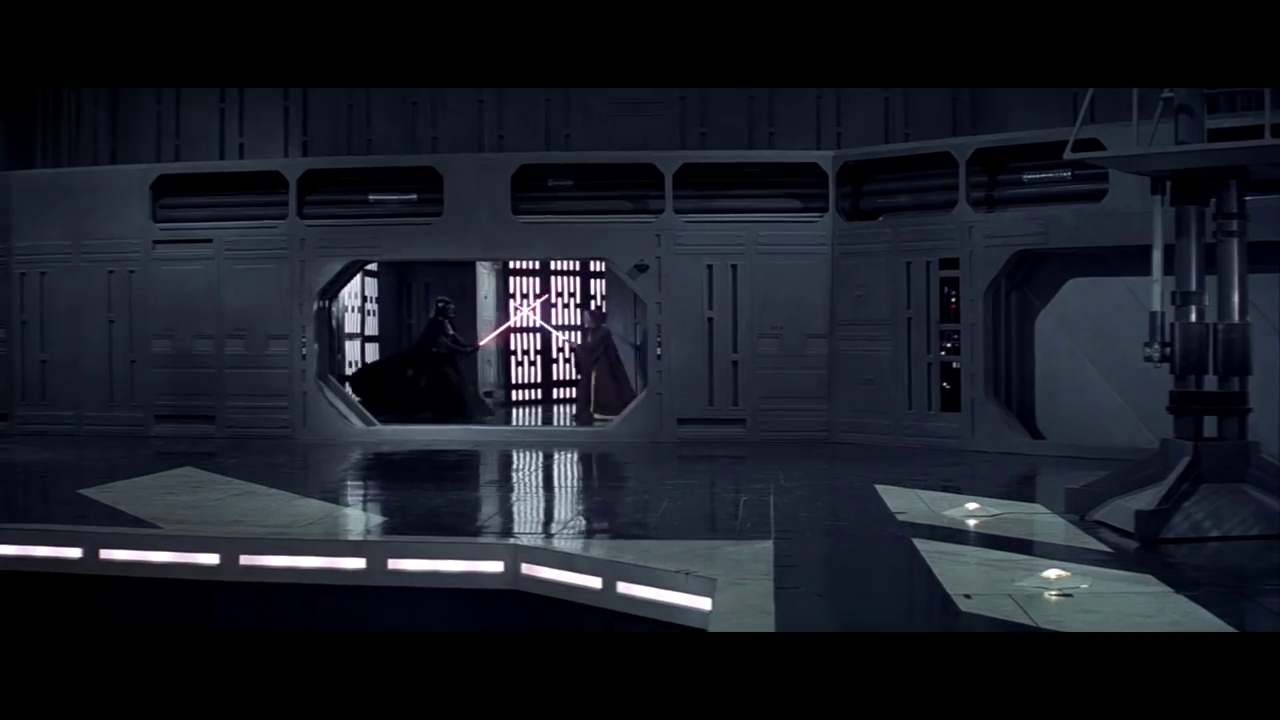lightsaber: (466, 288, 575, 344)
